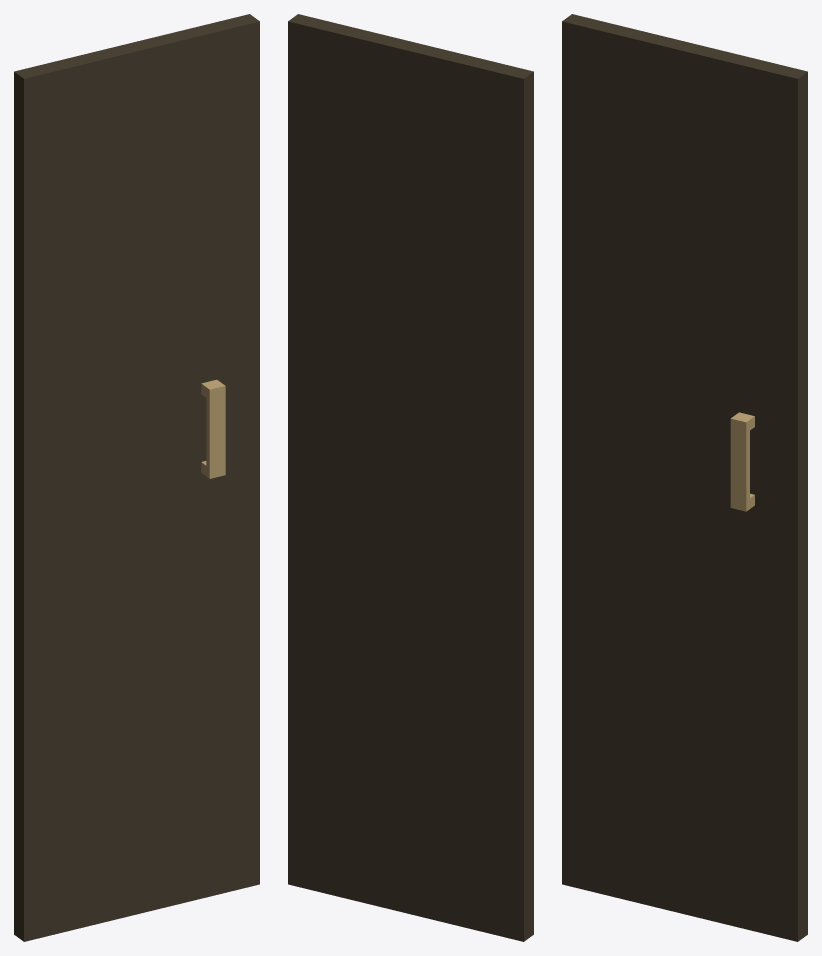
File: Wardrobe door.fbx
3 views of the same model, side by side, from view 1: azimuth 30°, elevation 25°; view 2: azimuth 150°, elevation 25°; view 3: azimuth 330°, elevation 25° (orthographic).
Visible parts, largest first — view 1: pCube32; view 2: pCube32; view 3: pCube32.
Boxes of the visible parts, x1,y1,x2,y2 form: pCube32: (14, 14, 259, 941); pCube32: (288, 14, 533, 941); pCube32: (562, 14, 807, 941).
Size of the model in its own units: 2.01 by 7.02 by 0.275.
